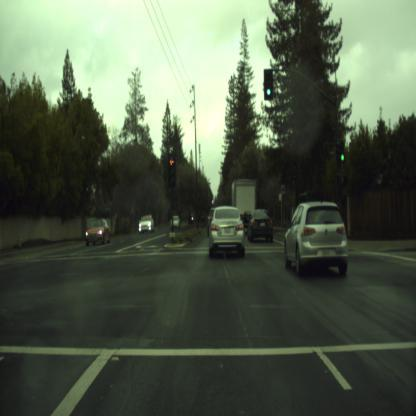Green: (264, 69, 272, 98), (340, 141, 344, 161)
RedLeft: (167, 152, 176, 186)
